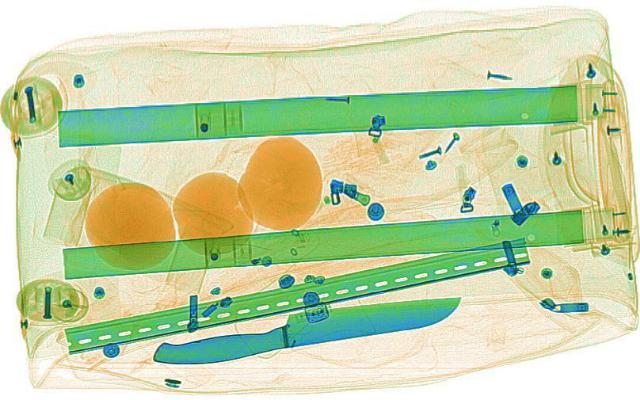Knife: (140, 284, 472, 370)
